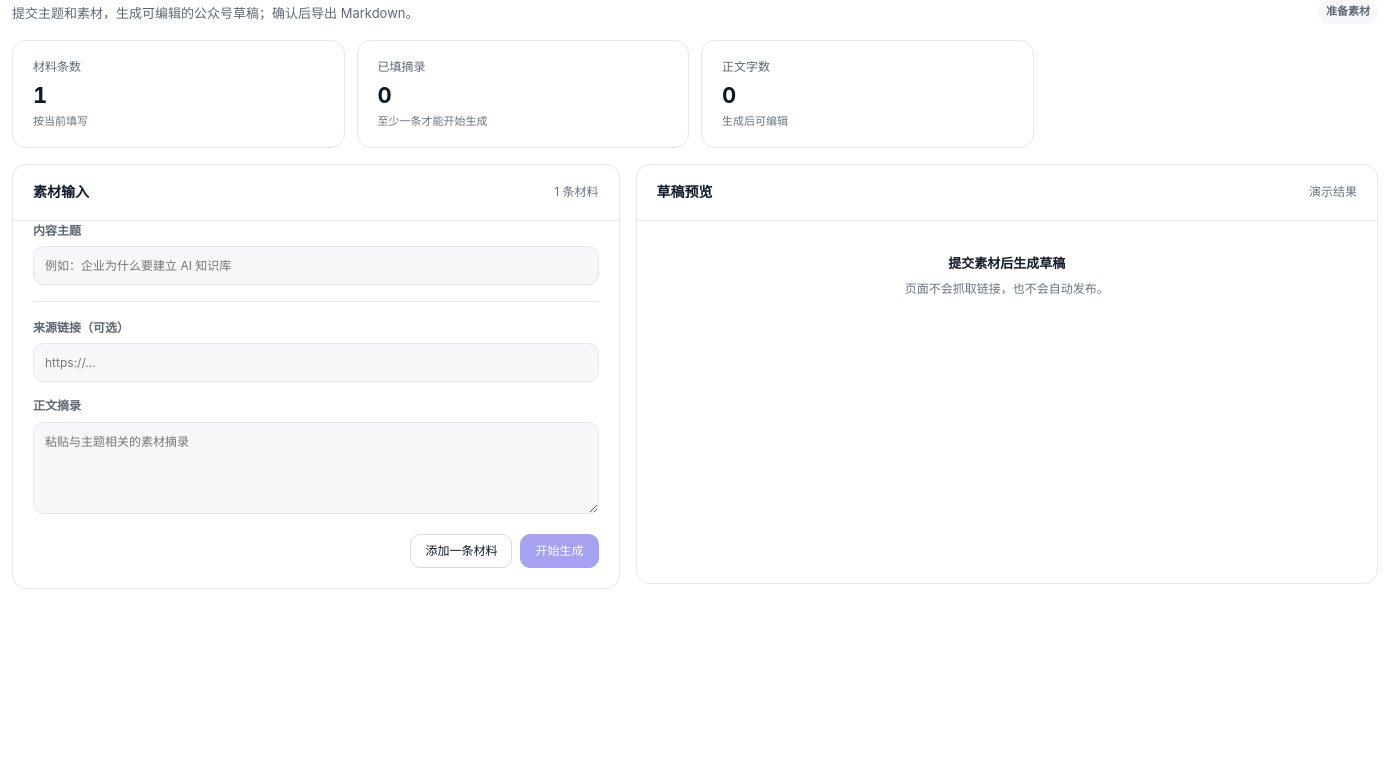
Test: ContentWorkbenchPage › submits material, shows reviewing draft, edits, confirms, and downloads markdown
Type "本周选题" into the field labelled "内容主题". click: (316, 265)
box: [33,246,598,285]
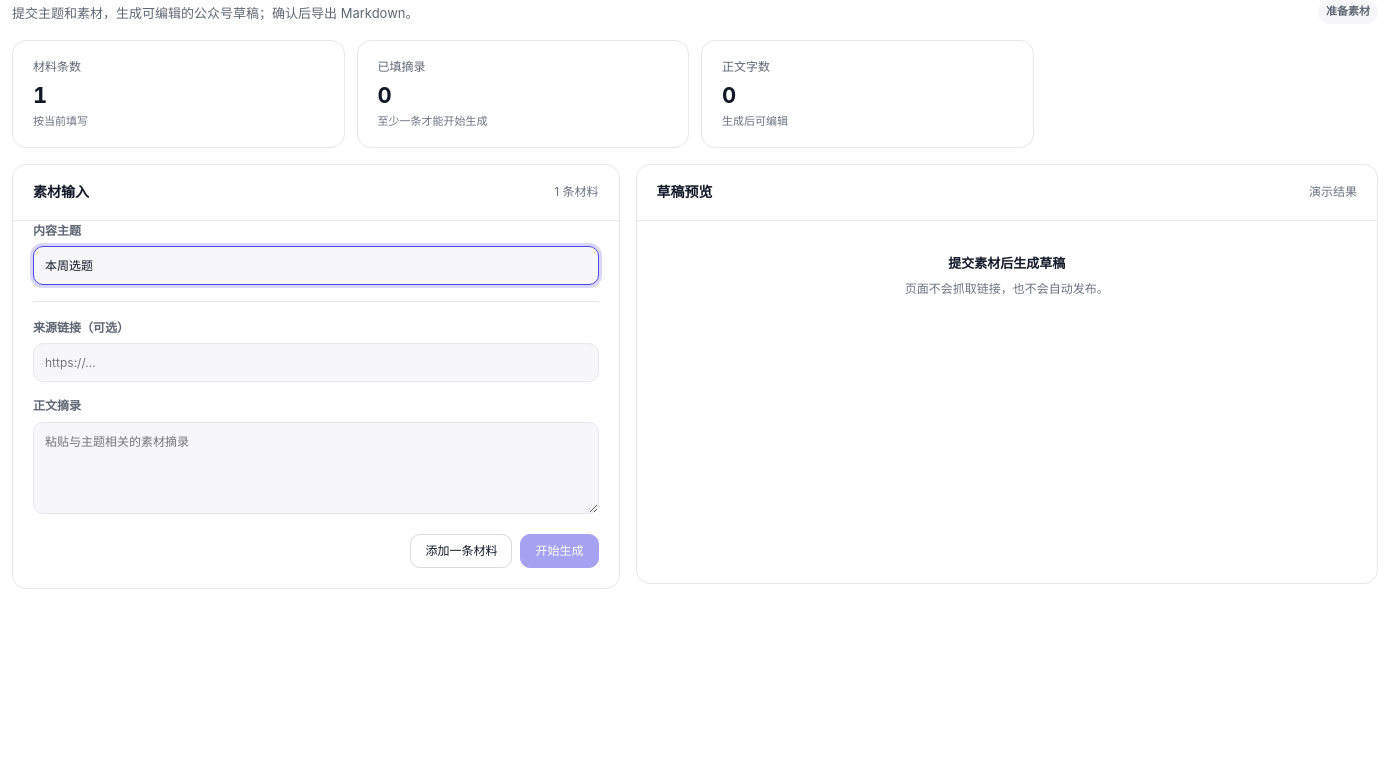
Type "参考摘录" into the text box labelled "正文摘录". click: (316, 468)
box: [33,422,598,514]
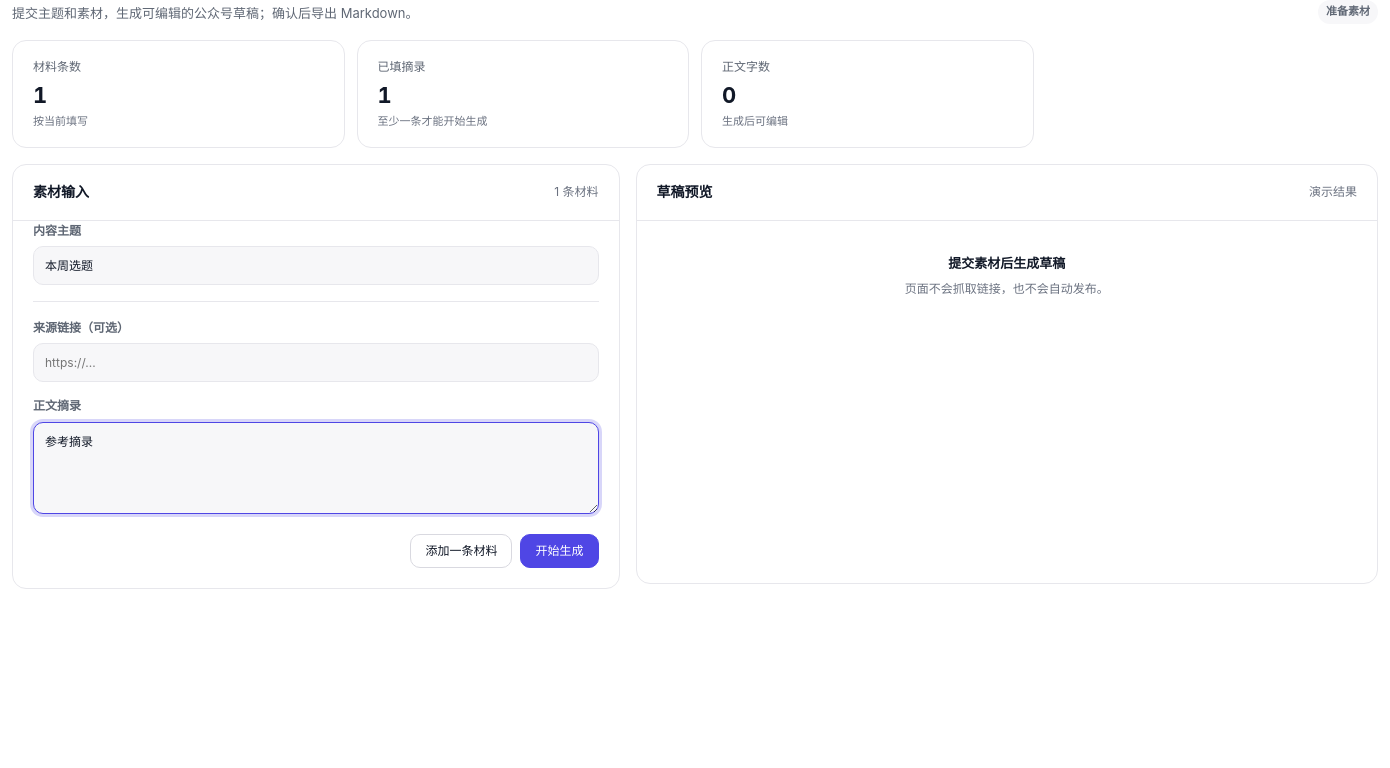
Click the button "开始生成". click: (560, 550)
box: [520,534,598,568]
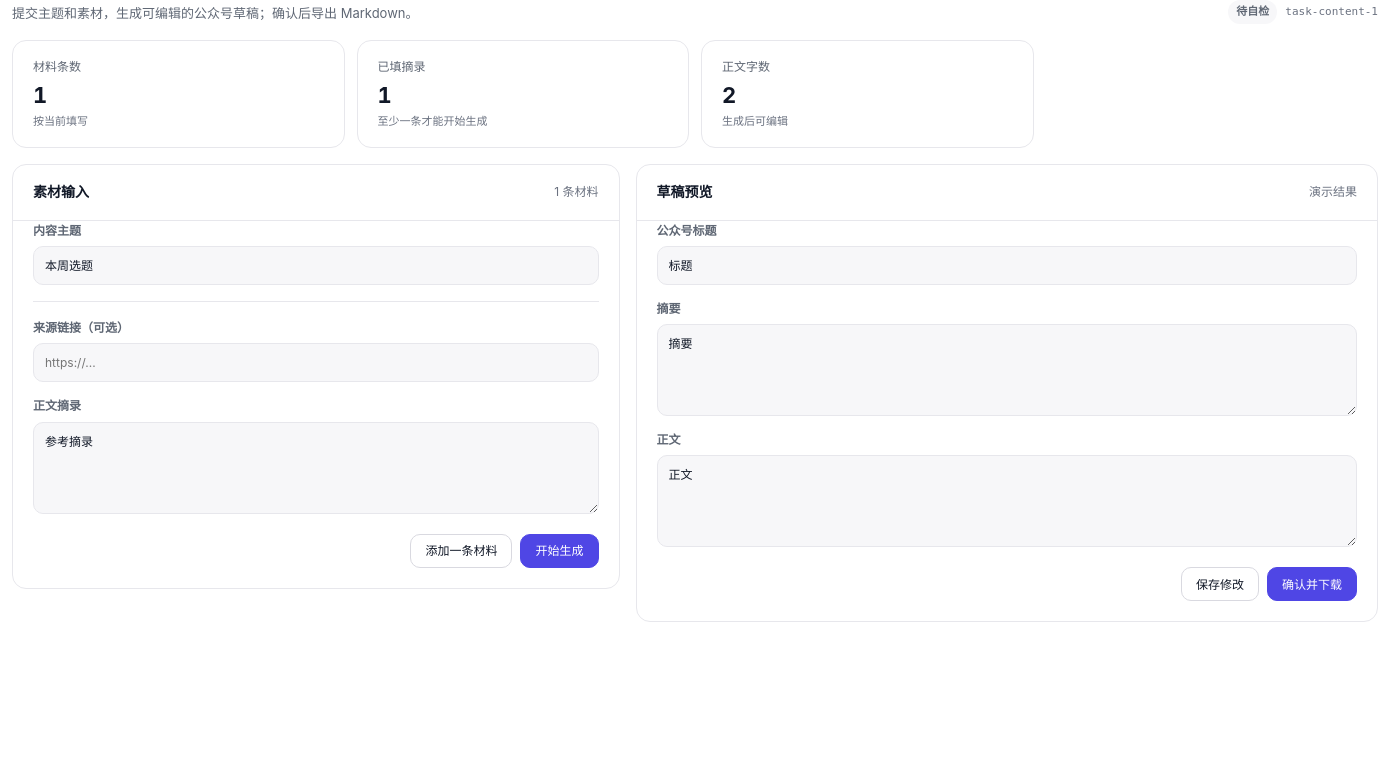
Expected: the text "待自检" is shown, [1228,0,1277,24]
Replace the text in the field labelled "公众号标题" with "新标题". click: (1007, 265)
box: [656,246,1357,285]
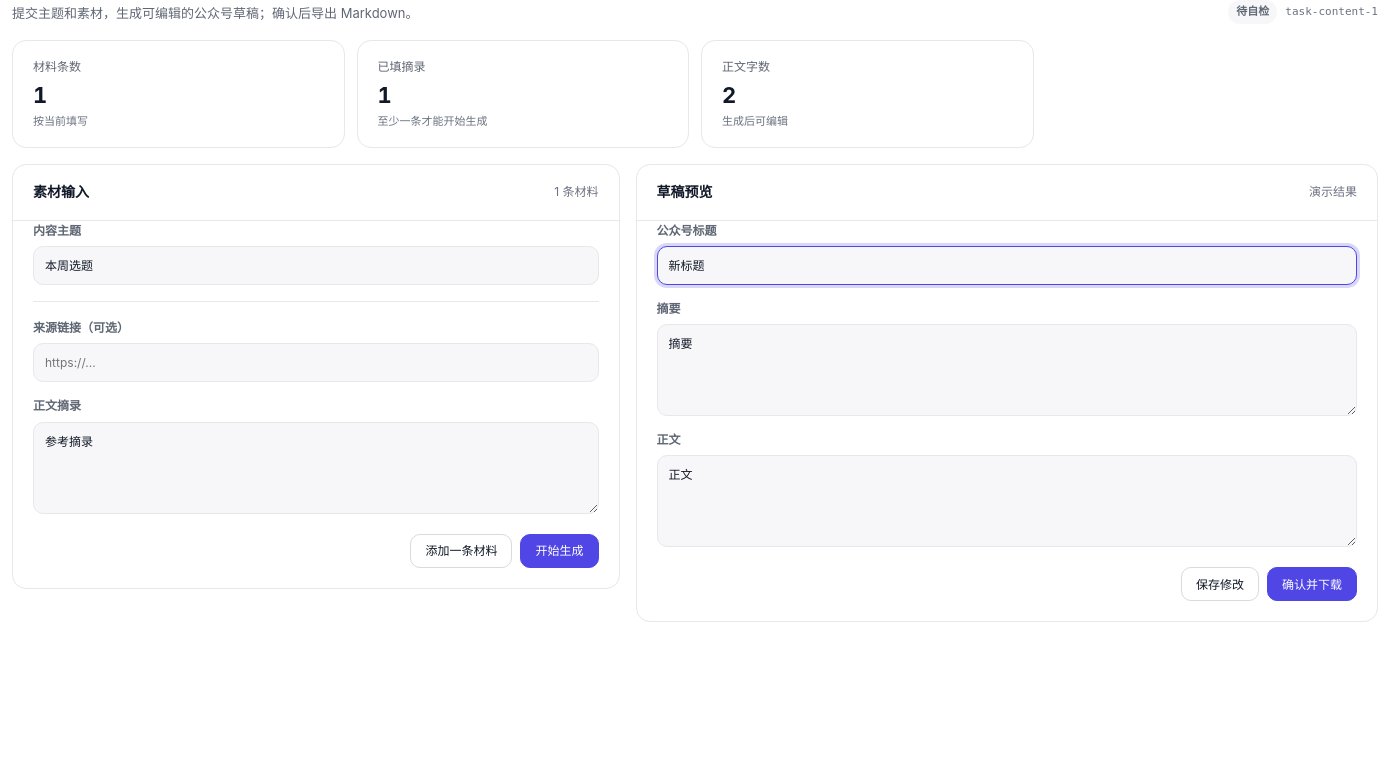
Click the button "保存修改". click: (1220, 584)
box: [1181,567,1259,601]
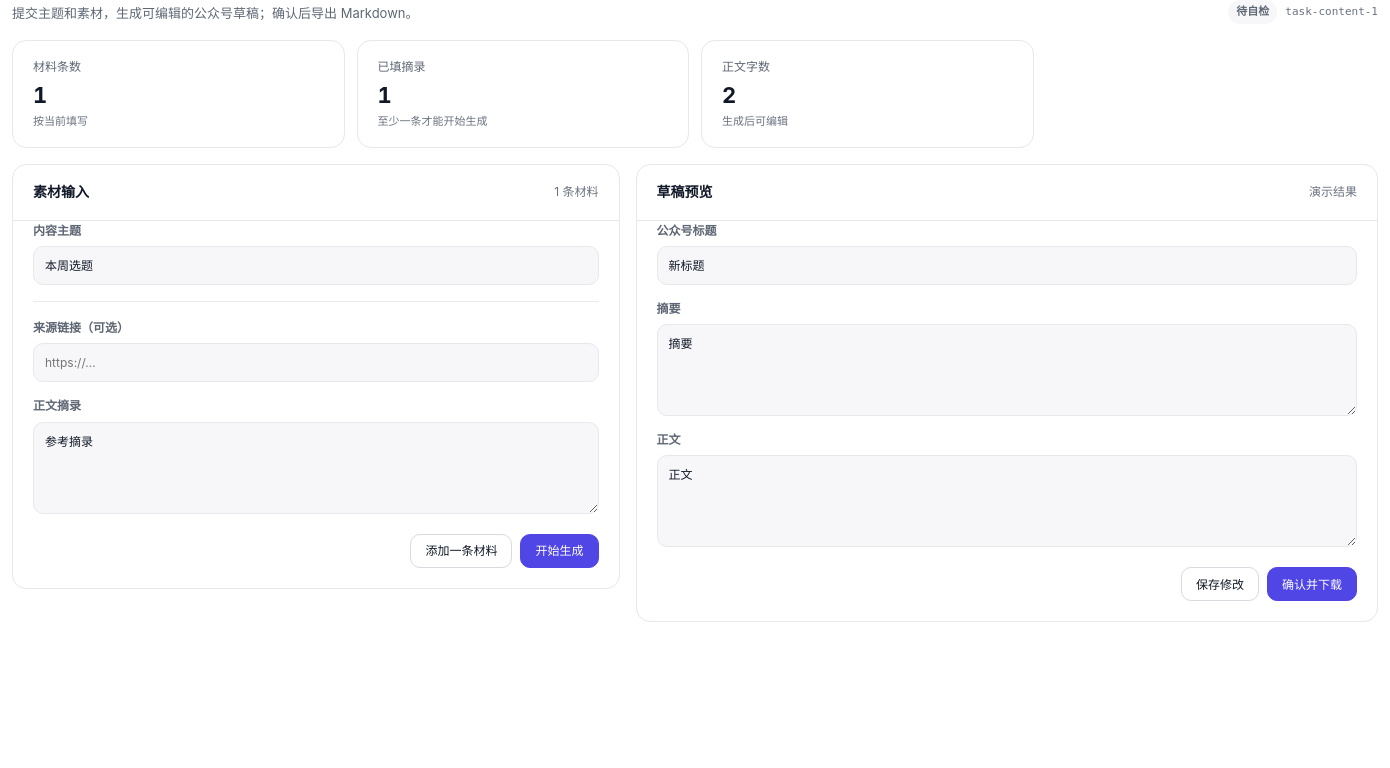
Click the button "确认并下载". click: (1312, 584)
box: [1267,567,1357,601]
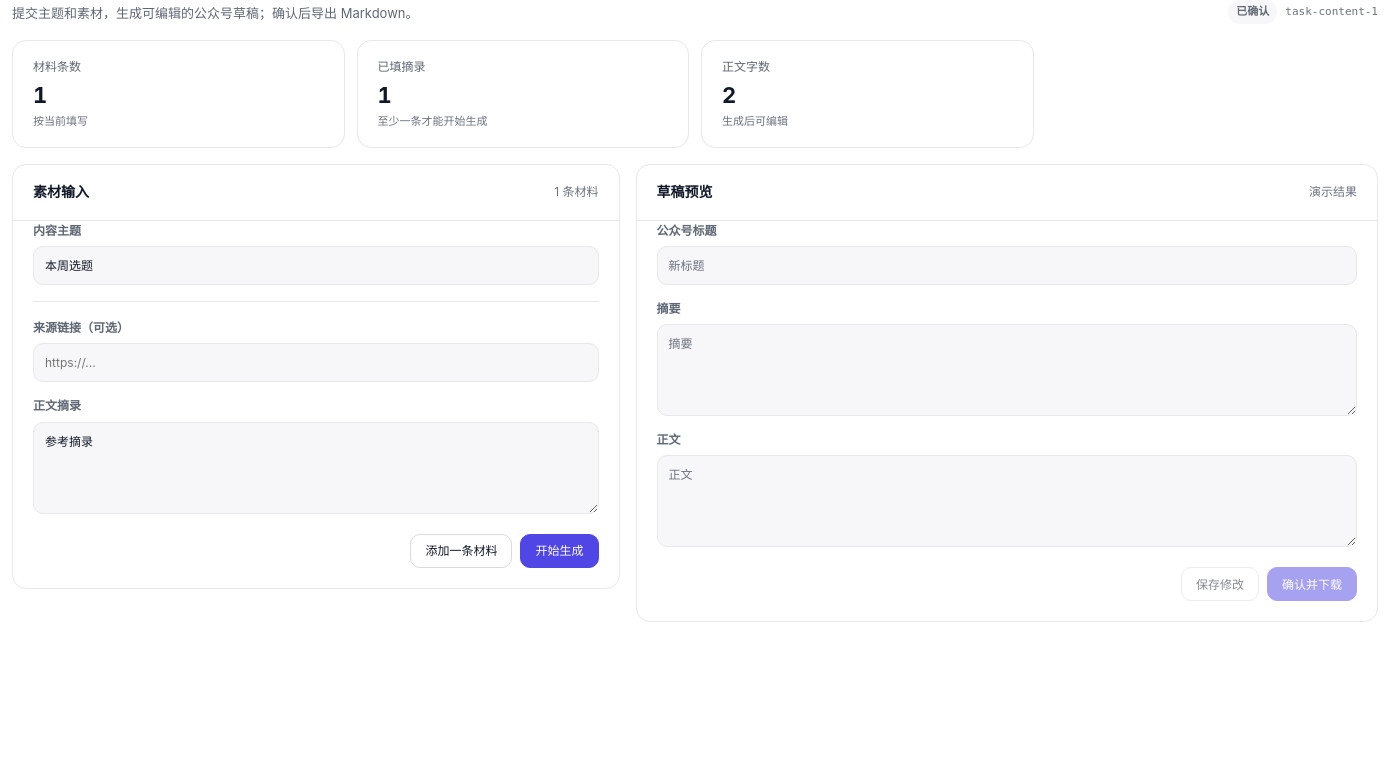
Expected: the text "已确认" is shown, [1228,0,1277,24]
